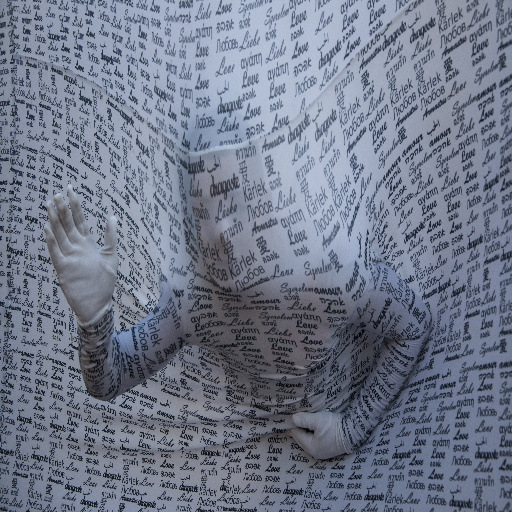hand: (45, 190, 121, 361), (285, 410, 353, 461)
